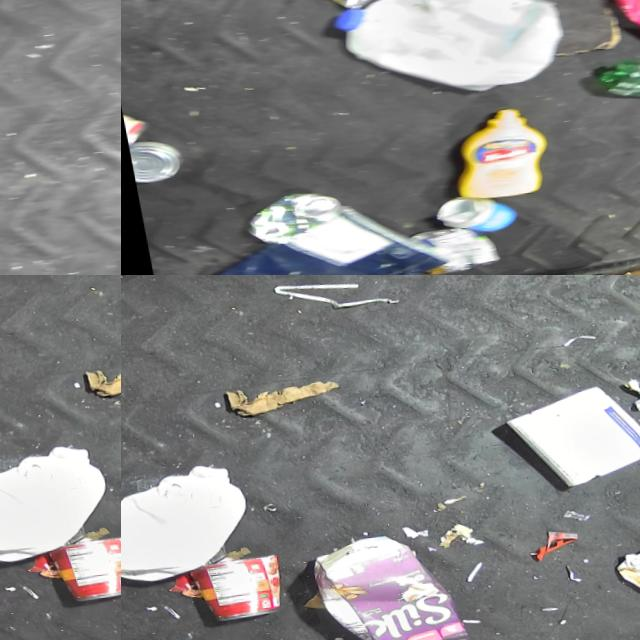can: (180, 553, 282, 625), (227, 187, 339, 250), (38, 533, 121, 605), (390, 222, 493, 275), (418, 190, 511, 240), (121, 135, 178, 185), (260, 0, 401, 20), (121, 95, 147, 151)
milk_jug: (318, 0, 567, 111), (121, 459, 252, 587), (0, 440, 111, 568)
non_white_jug: (295, 529, 463, 640), (598, 520, 640, 607)
